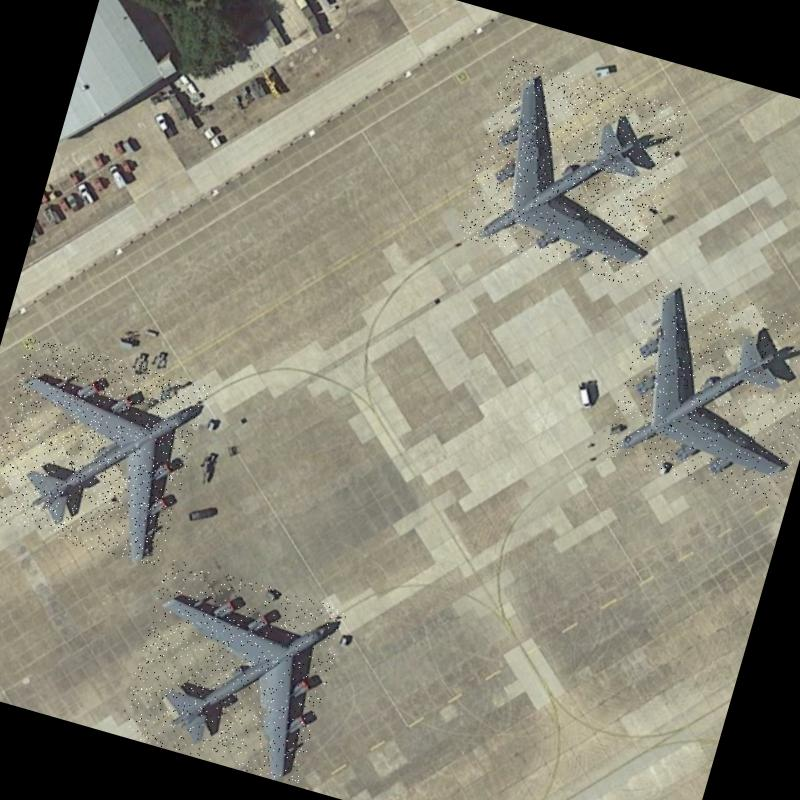A8: (455, 55, 691, 288), (117, 558, 347, 786), (0, 333, 209, 568), (601, 275, 800, 508)
